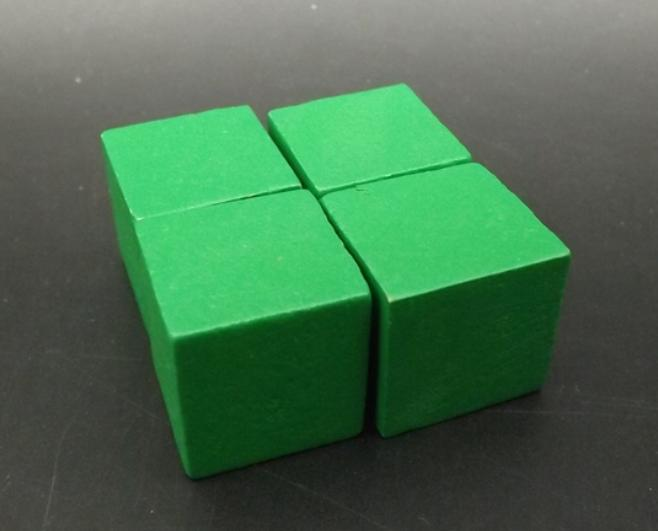green cube: (317, 160, 571, 441), (134, 188, 370, 480), (99, 104, 303, 304), (268, 80, 475, 198)
